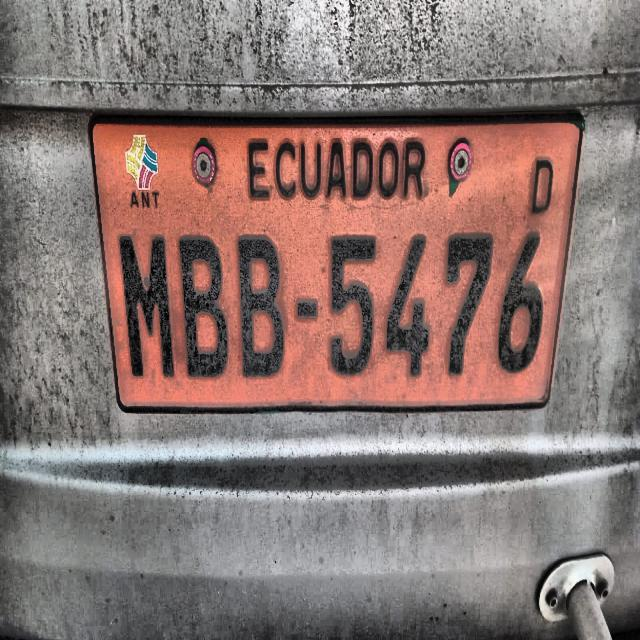license_plate: (82, 108, 588, 422)
